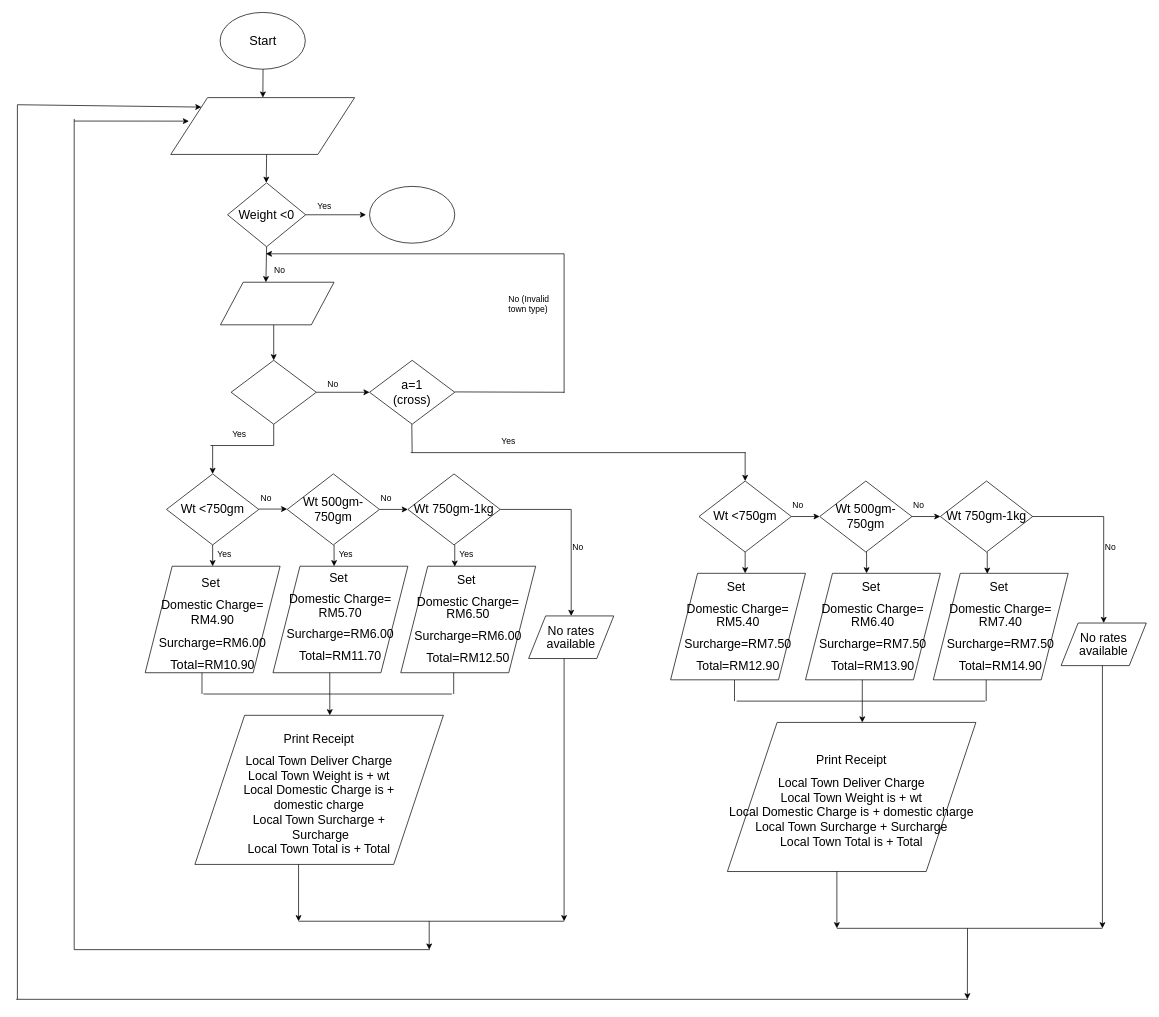
Image size: 1159x1017. Some labels were removed from this diagram. The shapes that lost their labels are listed below. From the top down, each one's centre as x and y in pixels, then its label:
At point (262, 125): "Read calculateweight into Weight".
At point (412, 214): "End".
At point (277, 303): "Read town type Into a".
At point (273, 392): "a=1 (local)".
